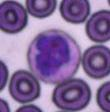N: (26, 29, 81, 84)
